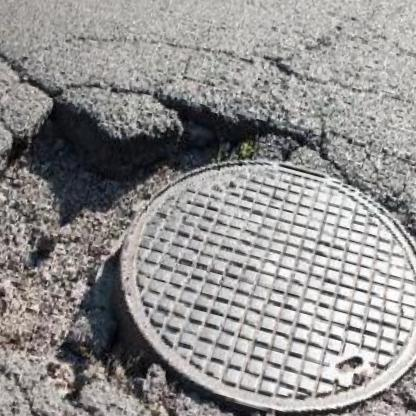pothole: (0, 27, 289, 416)
